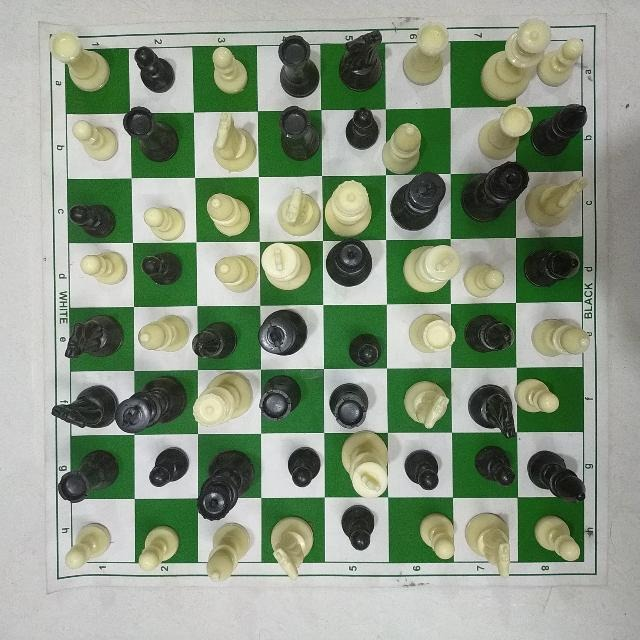black-bishop: (528, 452, 589, 504), (532, 102, 586, 157), (524, 249, 582, 287), (467, 313, 512, 354), (193, 322, 239, 360)
black-king: (116, 376, 185, 432), (388, 172, 445, 230), (257, 307, 308, 355)
black-knight: (51, 383, 119, 429), (467, 383, 518, 440), (63, 314, 125, 360), (338, 31, 381, 91)
black-pawn: (148, 445, 190, 491), (65, 203, 114, 239), (134, 48, 174, 92), (474, 444, 515, 485), (339, 505, 374, 549), (139, 251, 182, 286), (406, 449, 442, 490), (286, 448, 321, 488), (346, 108, 380, 148), (347, 333, 382, 368)
black-queen: (463, 163, 531, 220), (199, 452, 255, 521), (324, 238, 372, 288)
black-rook: (56, 449, 117, 501), (124, 106, 178, 162), (273, 37, 320, 97), (277, 106, 319, 159), (259, 376, 301, 422), (329, 383, 369, 429)
white-bishop: (206, 522, 250, 582), (529, 316, 589, 356), (137, 313, 189, 354), (382, 122, 422, 174), (206, 192, 250, 236), (213, 256, 257, 294)
white-king: (340, 433, 392, 498), (401, 245, 459, 295), (260, 242, 312, 290)
white-knight: (524, 175, 588, 228), (464, 511, 511, 579), (271, 516, 317, 579), (213, 111, 257, 171), (401, 377, 451, 429), (274, 188, 320, 236)
white-pawn: (530, 513, 581, 561), (536, 35, 583, 87), (67, 521, 109, 568), (209, 45, 248, 95), (71, 120, 117, 160), (77, 250, 128, 286), (139, 525, 178, 571), (419, 513, 454, 561), (513, 380, 563, 413), (143, 202, 184, 240), (466, 264, 504, 298)
white-queen: (481, 18, 550, 100), (191, 367, 252, 424), (324, 180, 372, 236)
white-rook: (47, 32, 108, 90), (479, 105, 533, 160), (402, 22, 447, 86), (407, 313, 455, 354)
